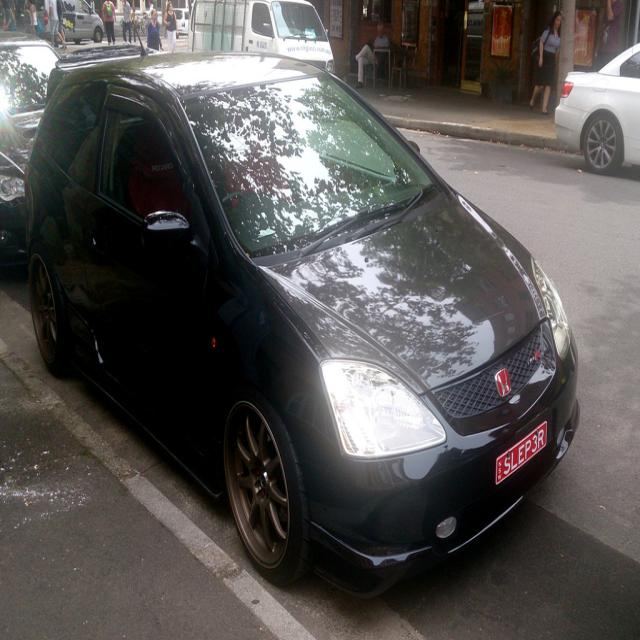car: (35, 56, 585, 597)
